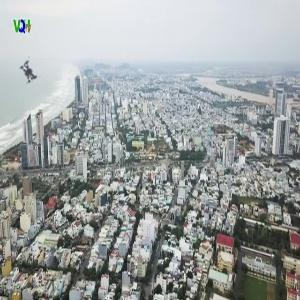drone: (3, 44, 59, 100)
